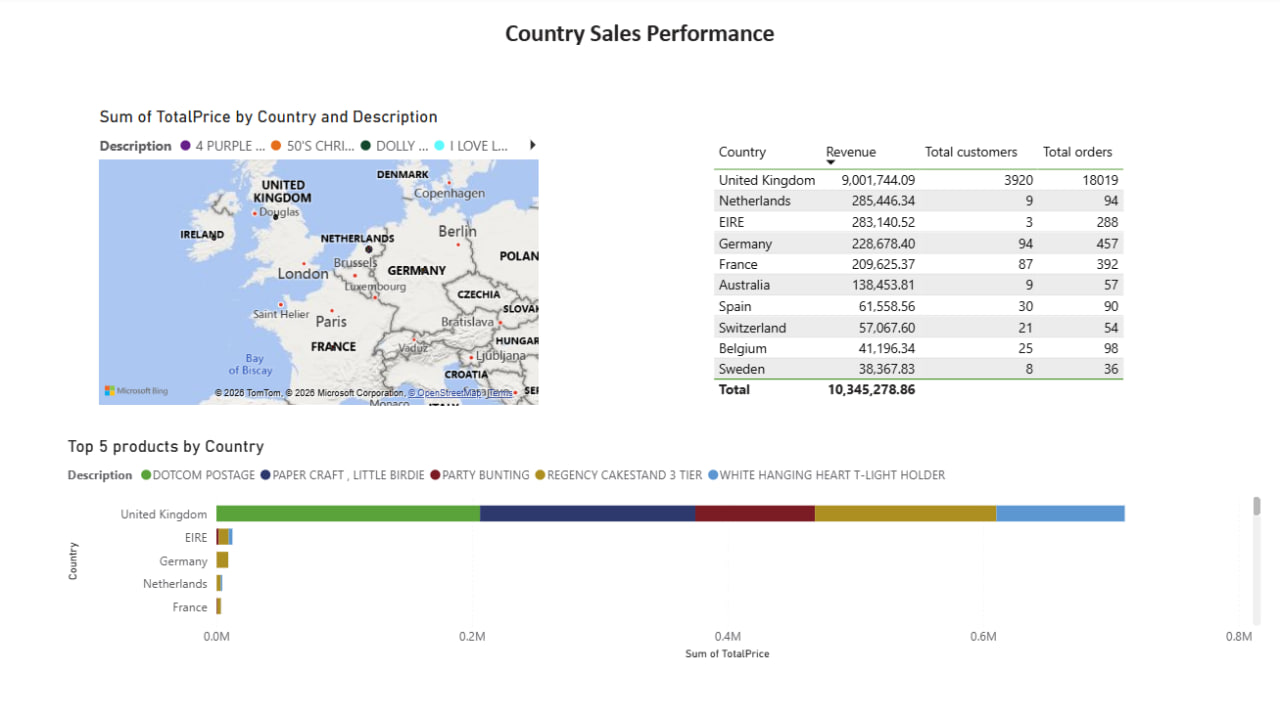

What the dashboard file says about the page in this screenshot:
{"tool":"powerbi","page":{"name":"Country","canvas":[1280,720],"ordinal":3},"visuals":[{"type":"textbox","box":[0,17.1,1280.3,92.9],"z":0},{"type":"map","fields":{"Category":["online_retail vw_retail_sales.Country"],"Series":["online_retail vw_retail_sales.Description"]},"box":[95.4,110.6,448,304.2],"z":1000},{"type":"tableEx","fields":{"Values":["online_retail vw_retail_sales.Country","Sum(online_retail vw_retail_sales.TotalPrice)","online_retail vw_country_sales.total_customers","online_retail vw_country_sales.total_orders"]},"box":[707.9,139.6,500.5,275.1],"z":2000},{"type":"barChart","title":"Top 5 products by Country","fields":{"Y":["Sum(online_retail vw_retail_sales.TotalPrice)"],"Category":["online_retail vw_retail_sales.Country"],"Series":["online_retail vw_retail_sales.Description"]},"box":[63.6,440.2,1202,228.7],"z":3000}]}

Visuals, with their boxes in screenshot pixels (x1, y1, x2, y2), scaled from the page's 1280x720 canvas onto the 1280x715 screenshot:
textbox: (x1=0, y1=17, x2=1279, y2=109)
map - online_retail vw_retail_sales.Country x online_retail vw_retail_sales.Description: (x1=95, y1=110, x2=543, y2=412)
tableEx - online_retail vw_retail_sales.Country x Sum(online_retail vw_retail_sales.TotalPrice): (x1=708, y1=139, x2=1208, y2=412)
"Top 5 products by Country" barChart: (x1=64, y1=437, x2=1266, y2=664)
